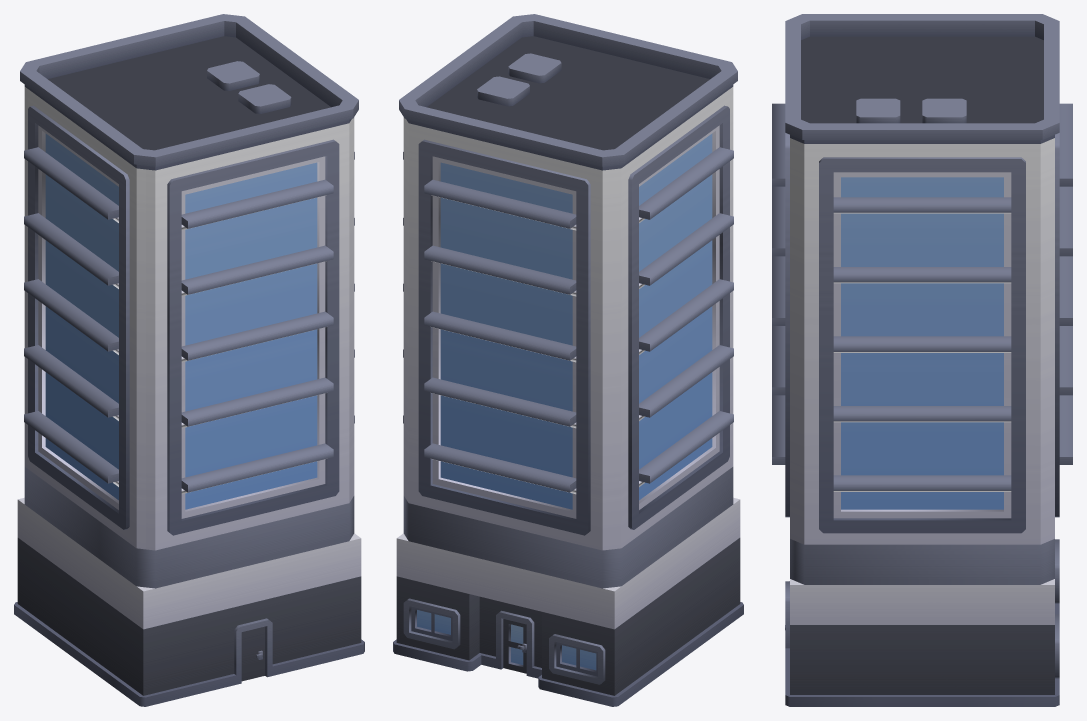
The model's file is office.draco.glb.
The picture shows the model from 3 angles, left to right: view 1: azimuth 30°, elevation 25°; view 2: azimuth 150°, elevation 25°; view 3: azimuth 270°, elevation 25°; orthographic projection. The views are drawn at different scales.
Visible parts, largest first — view 1: building-skyscraper-a; view 2: building-skyscraper-a; view 3: building-skyscraper-a.
Boxes of the visible parts, x1,y1,x2,y2 form: building-skyscraper-a: [14, 14, 364, 706]; building-skyscraper-a: [393, 14, 743, 706]; building-skyscraper-a: [772, 14, 1072, 706].
Bounding box in the file's own units: 44562 × 94369 × 44562.
1 material, 1 textured.
